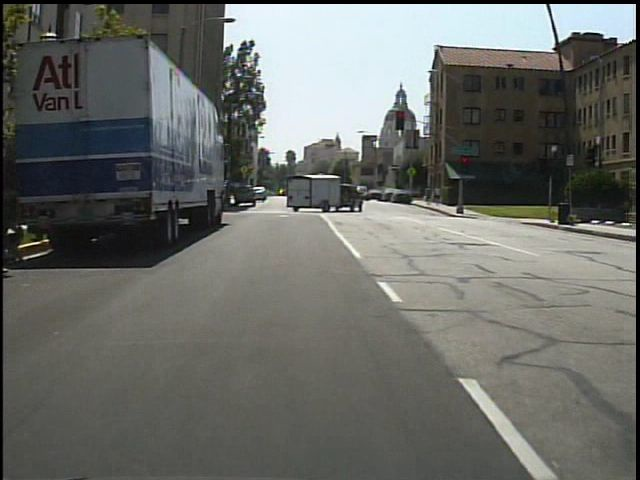person: (432, 184, 445, 210), (423, 185, 434, 209)
